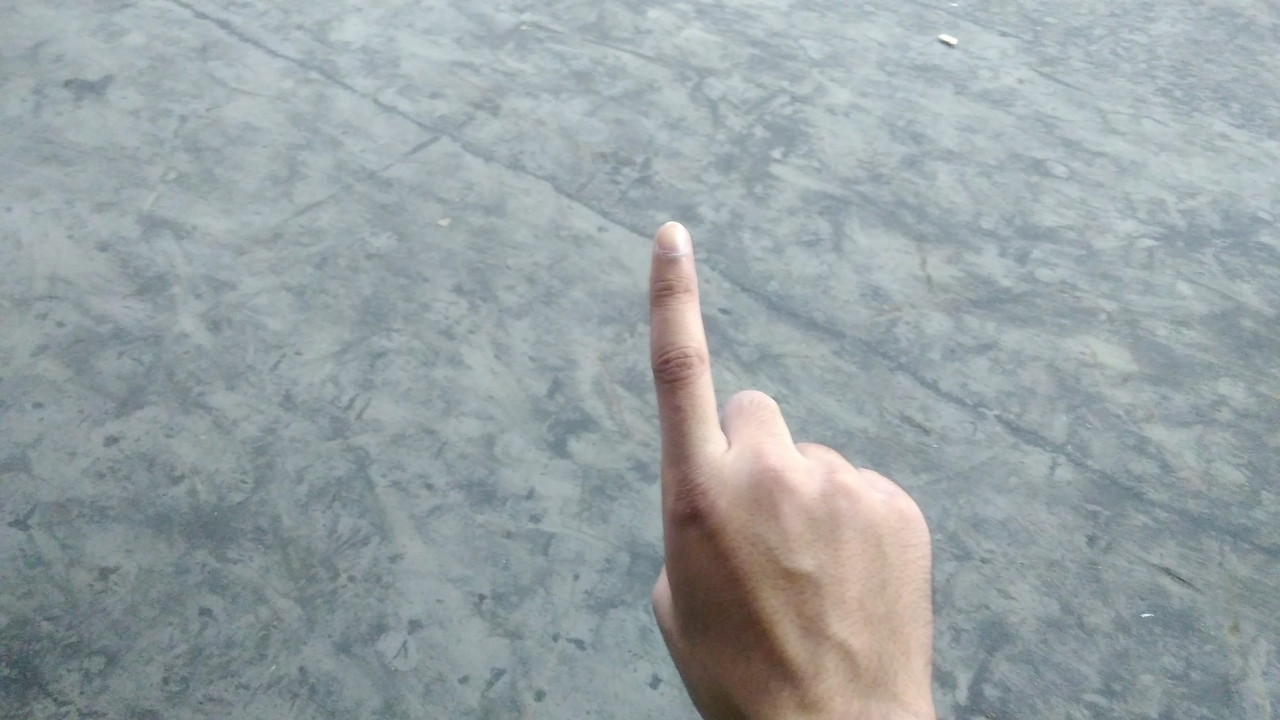fingertip: (648, 208, 700, 264)
